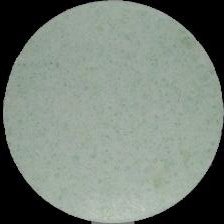55289-234: (0, 0, 224, 224)
